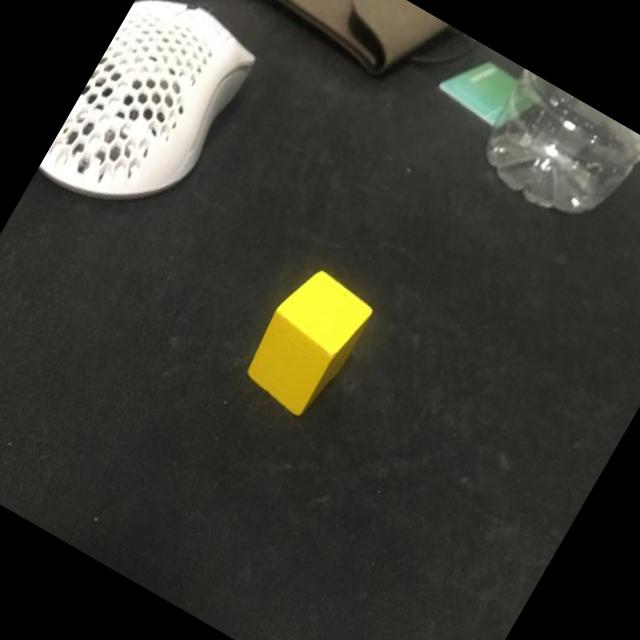yellow: (234, 258, 380, 424)
